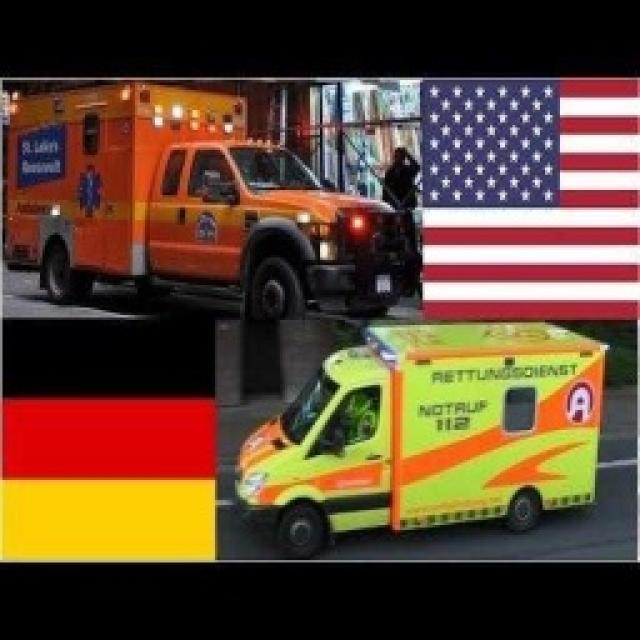emergency-vehicle: (12, 92, 418, 318), (230, 330, 608, 554)
